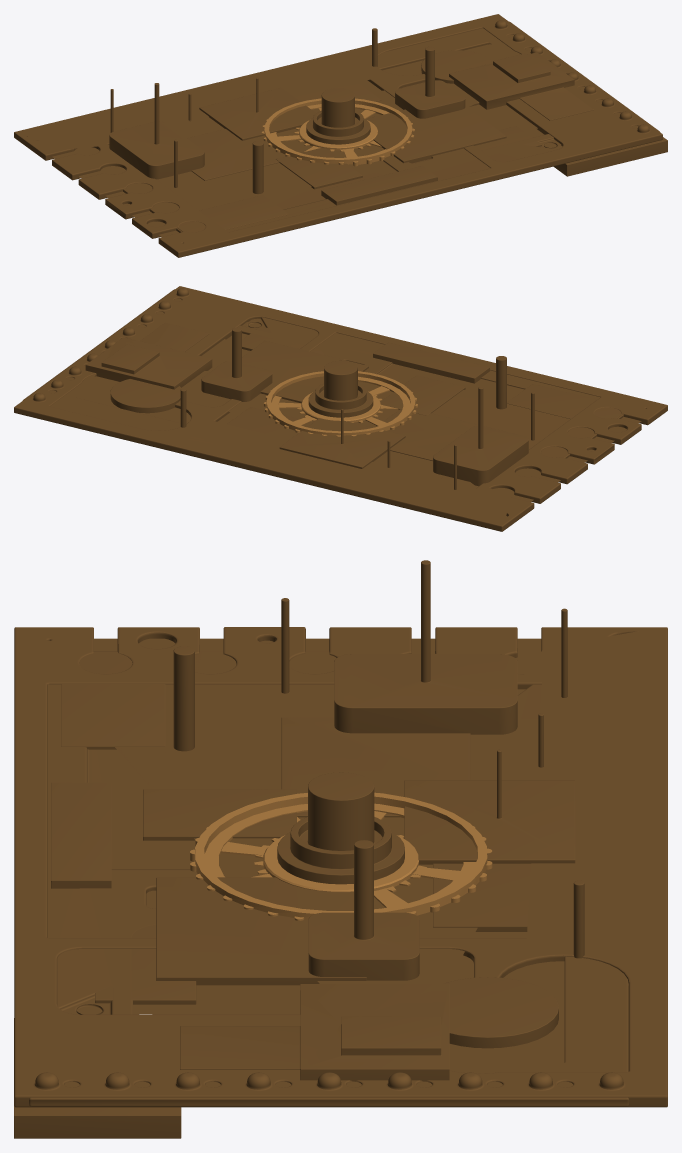
The model's file is Gears.fbx.
3 renders of one model, top to bottom at view 1: azimuth 30°, elevation 25°; view 2: azimuth 150°, elevation 25°; view 3: azimuth 270°, elevation 25°, orthographic. The views are drawn at different scales.
Parts seen in each view (by area): view 1: Plate 1, Plate 3, Plate 2, Gear 5; view 2: Plate 1, Plate 3, Plate 2, Gear 5; view 3: Plate 1, Plate 3, Plate 2, Gear 5.
Boxes of the visible parts, x1,y1,x2,y2 form: Plate 1: (29,28,667,236); Plate 3: (14,14,662,257); Plate 2: (104,21,659,232); Gear 5: (261,98,414,166); Plate 1: (76,322,641,519); Plate 3: (14,286,667,531); Plate 2: (23,289,623,488); Gear 5: (263,371,418,436); Plate 1: (14,560,584,1138); Plate 3: (14,627,667,1107); Plate 2: (29,651,629,1106); Gear 5: (190,792,492,920).
Bounding box in the file's own units: 859 × 154 × 500.
